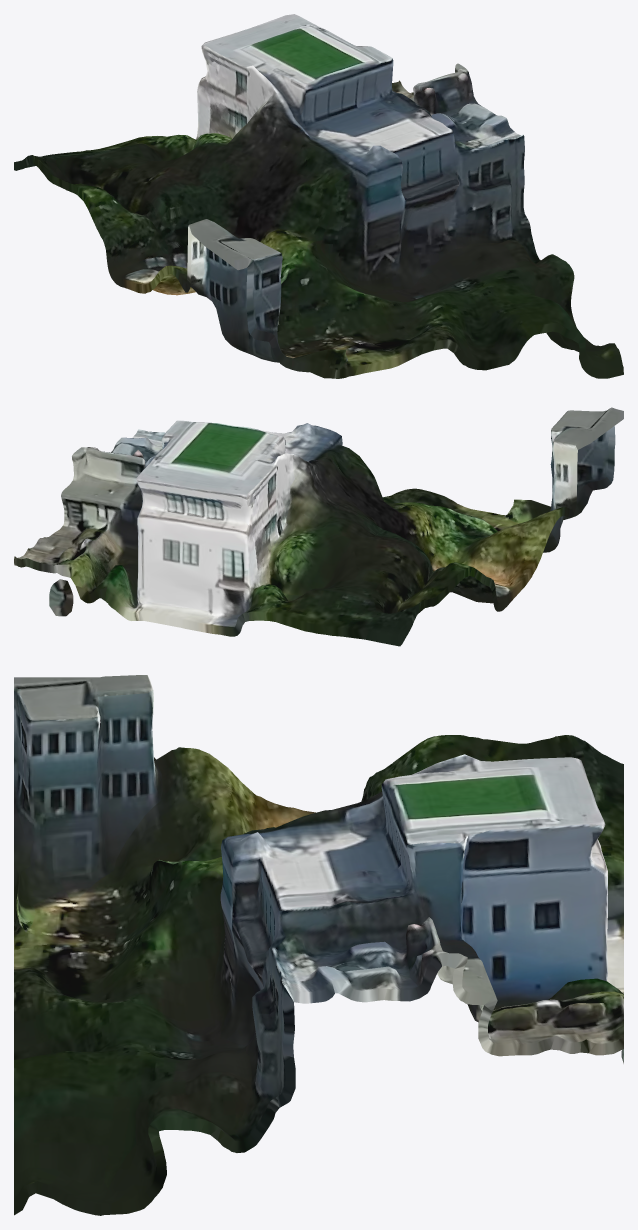
File: z20-167717-405194-h0-yup-uvflip-v3-world.glb
The picture shows the model from 3 angles, top to bottom: view 1: azimuth 30°, elevation 25°; view 2: azimuth 150°, elevation 25°; view 3: azimuth 270°, elevation 25°; orthographic projection. The views are drawn at different scales.
Bounding box in the file's own units: 30.2 × 17.84 × 30.32.
Materials: 1 (1 with a texture image).
